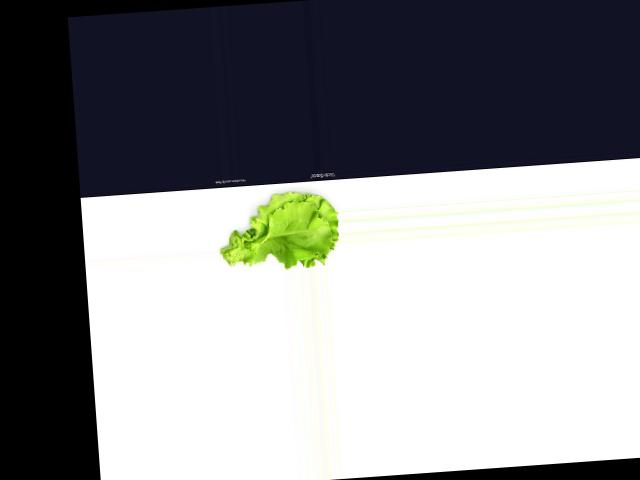lettuce: (218, 182, 341, 274)
